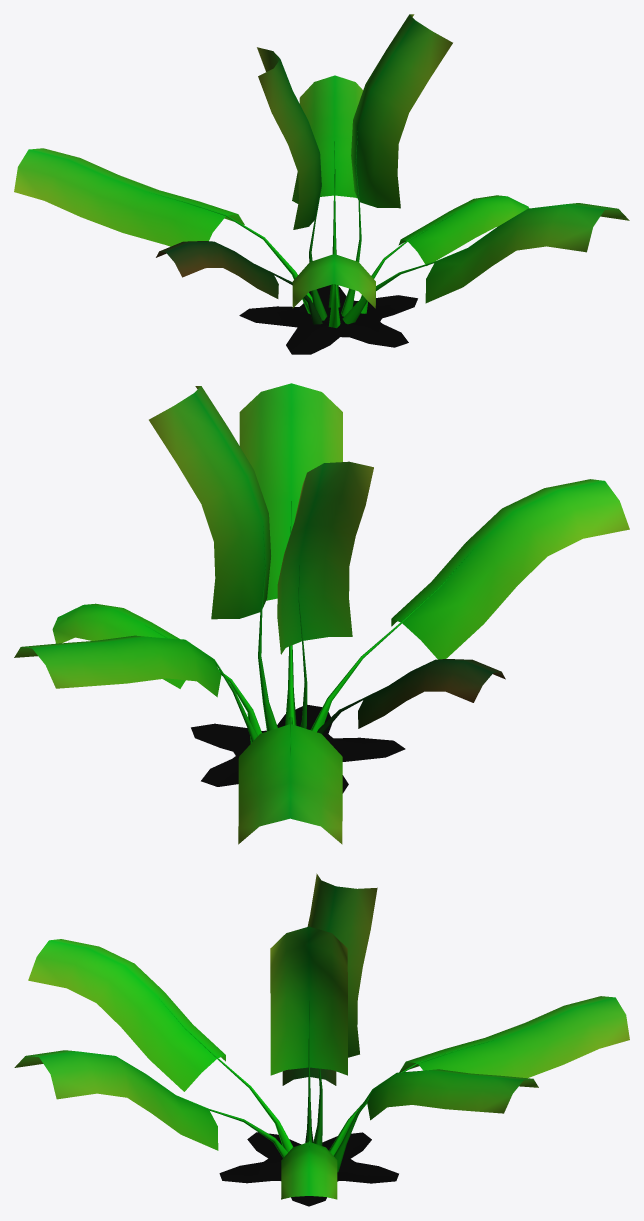
Rendered from Fern 2.fbx.
3 views of the same model, one above another, from view 1: azimuth 30°, elevation 25°; view 2: azimuth 150°, elevation 25°; view 3: azimuth 270°, elevation 25° (orthographic). The views are drawn at different scales.
Visible parts, largest first — view 1: _1, _0; view 2: _1, _0; view 3: _1, _0.
Part boxes in pixels (box(x1,y1,x2,y2)): _1: box(14, 14, 629, 308); _0: box(156, 131, 491, 354); _1: box(14, 383, 629, 844); _0: box(149, 501, 470, 793); _1: box(14, 873, 629, 1199); _0: box(156, 1001, 488, 1206).
Size of the model in its own units: 234 by 168 by 333.
